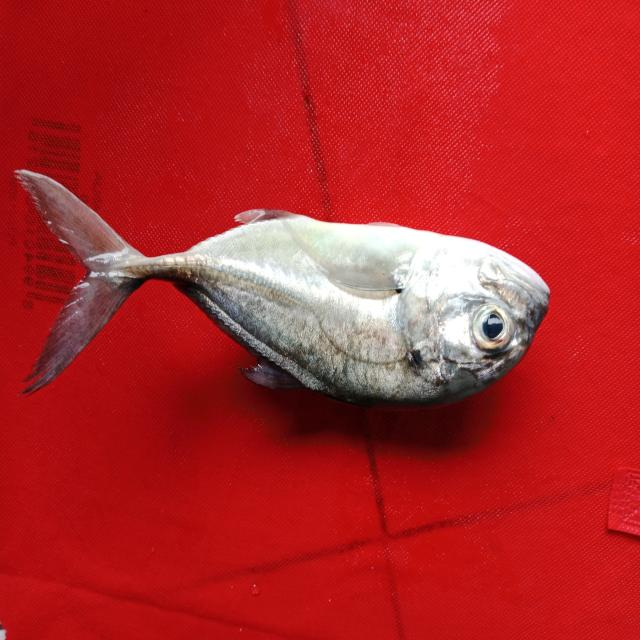ikan: (11, 127, 562, 435)
